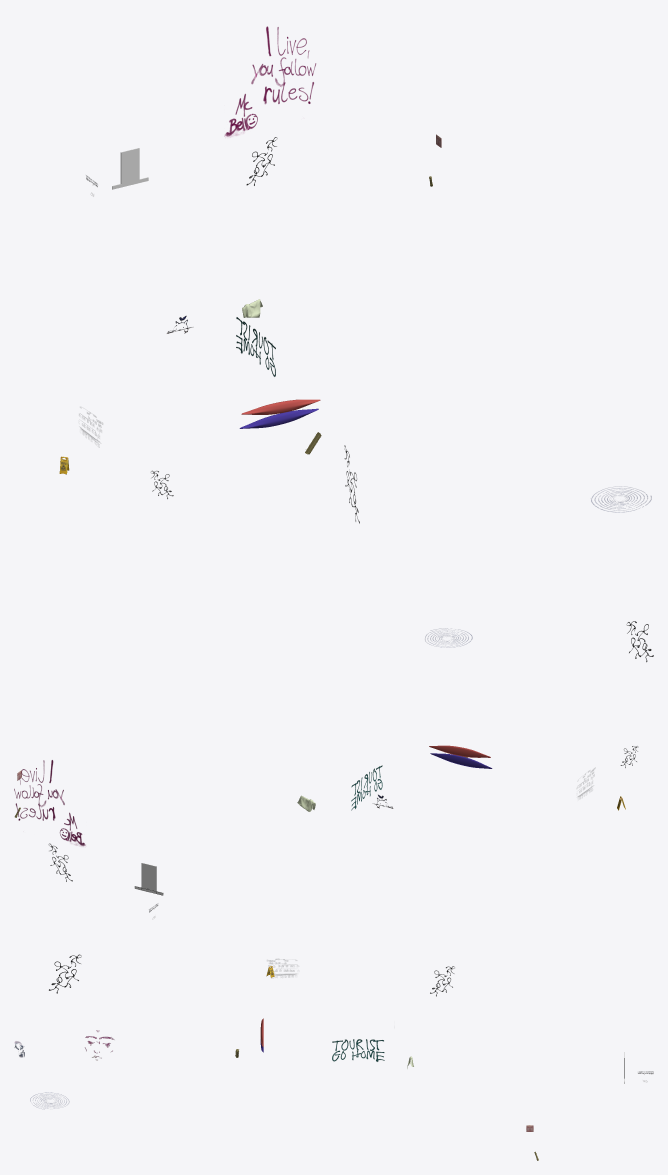
Rendered from pieces.glb.
3 renders of one model, top to bottom at view 1: azimuth 30°, elevation 25°; view 2: azimuth 150°, elevation 25°; view 3: azimuth 270°, elevation 25°, orthographic. The views are drawn at different scales.
Visible parts, largest first — view 1: ILive; view 2: ILive, SignBoundingBox; view 3: TouristGoHome.
Boxes of the visible parts, bbox=[...] form: ILive: bbox=[224, 26, 315, 136]; ILive: bbox=[14, 760, 85, 846]; SignBoundingBox: bbox=[134, 863, 163, 895]; TouristGoHome: bbox=[332, 1039, 384, 1061].
Bounding box in the file's own units: 23 × 6.09 × 33.54.
Materials: 20 (14 with a texture image).
